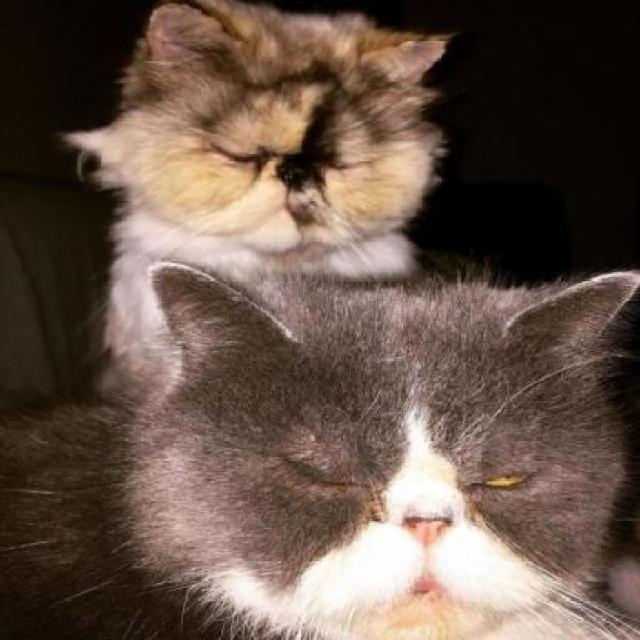cat: (136, 258, 639, 640), (63, 0, 474, 282)
